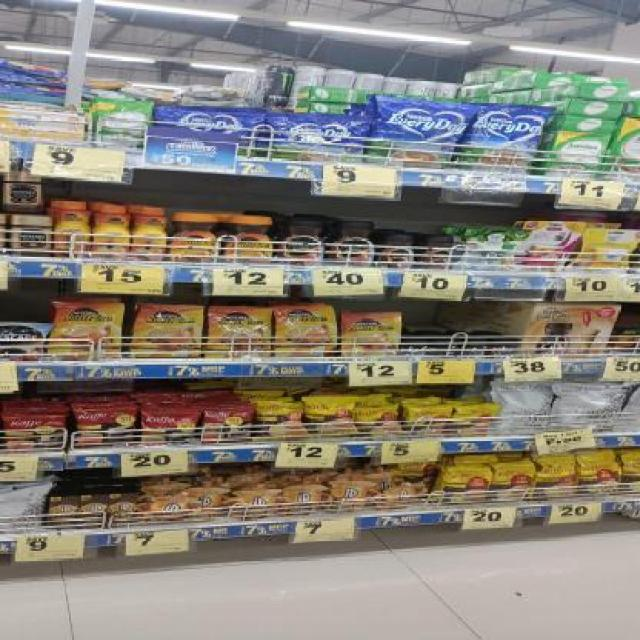Coffee: (52, 304, 120, 358), (136, 304, 200, 358), (209, 305, 268, 358), (276, 307, 335, 358), (342, 312, 398, 356), (171, 212, 220, 262), (224, 215, 273, 265), (329, 220, 374, 268), (279, 218, 324, 265), (54, 200, 89, 257), (94, 204, 130, 259), (0, 322, 48, 361), (136, 205, 166, 260), (4, 171, 42, 214), (9, 216, 48, 256), (381, 234, 414, 268), (420, 235, 452, 268), (494, 342, 520, 356), (433, 342, 459, 355), (404, 342, 428, 356), (463, 342, 488, 355)
